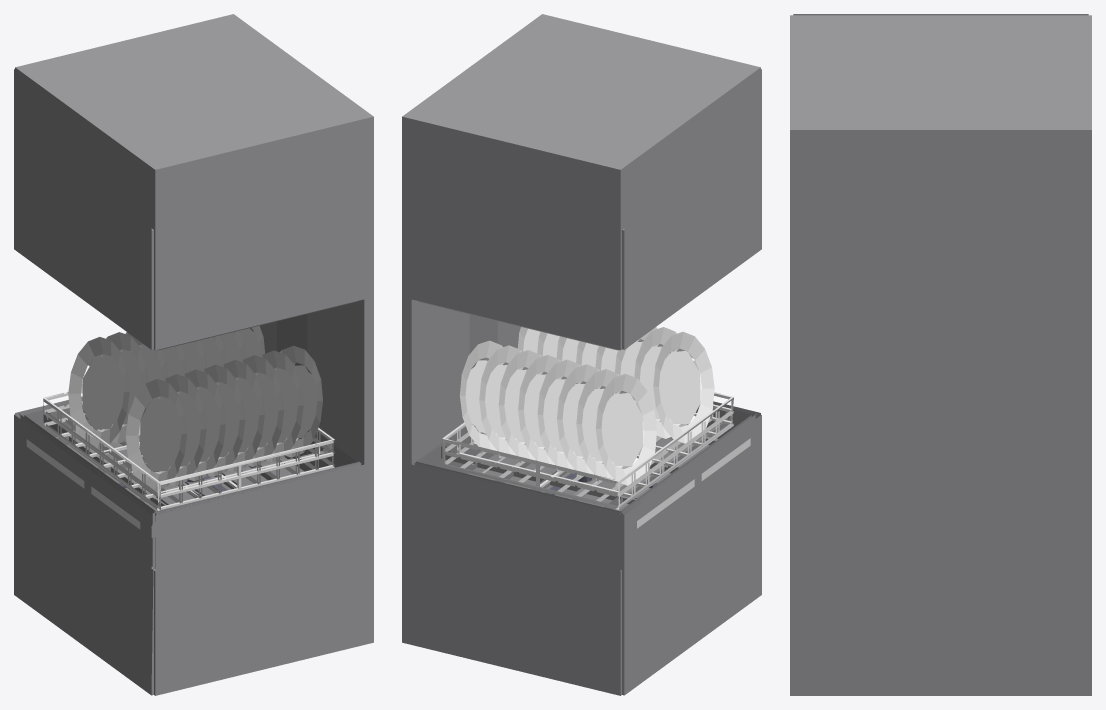
The model's file is kt_dishwasher.fbx.
3 renders of one model, left to right at view 1: azimuth 30°, elevation 25°; view 2: azimuth 150°, elevation 25°; view 3: azimuth 270°, elevation 25°, orthographic. The views are drawn at different scales.
Parts seen in each view (by area): view 1: kt_dishwasher_LOD0; view 2: kt_dishwasher_LOD0; view 3: kt_dishwasher_LOD0.
Boxes of the visible parts, box(x1,y1,x2,y2) form: kt_dishwasher_LOD0: box(14, 14, 373, 695); kt_dishwasher_LOD0: box(402, 14, 761, 695); kt_dishwasher_LOD0: box(790, 14, 1091, 695).
Size of what is drawn, in the model's own units: 0.8353 by 1.9 by 0.9179.
1 material, 1 textured.
